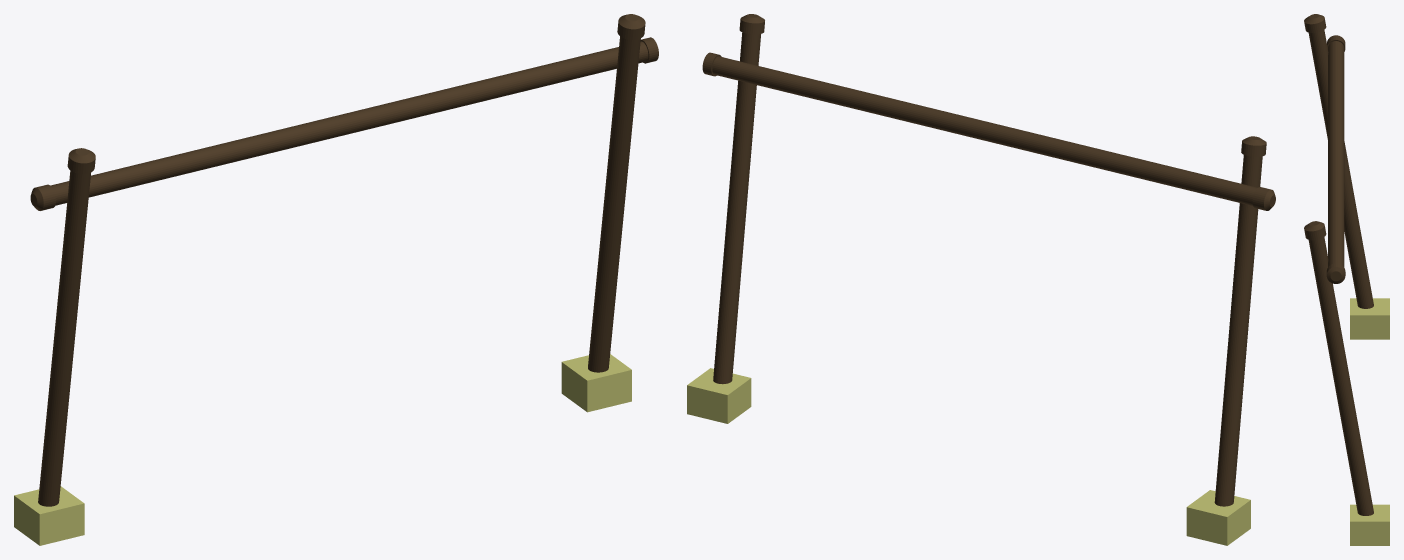
File: Bazaar_Post.fbx
3 views of the same model, side by side, from view 1: azimuth 30°, elevation 25°; view 2: azimuth 150°, elevation 25°; view 3: azimuth 270°, elevation 25° (orthographic). The views are drawn at different scales.
Parts seen in each view (by area): view 1: Posts; view 2: Posts; view 3: Posts.
Part boxes in pixels (box(x1,y1,x2,y2)): Posts: box(14, 14, 658, 545); Posts: box(687, 14, 1275, 545); Posts: box(1304, 14, 1389, 545).
Size of the model in its own units: 883 by 554 by 137.
